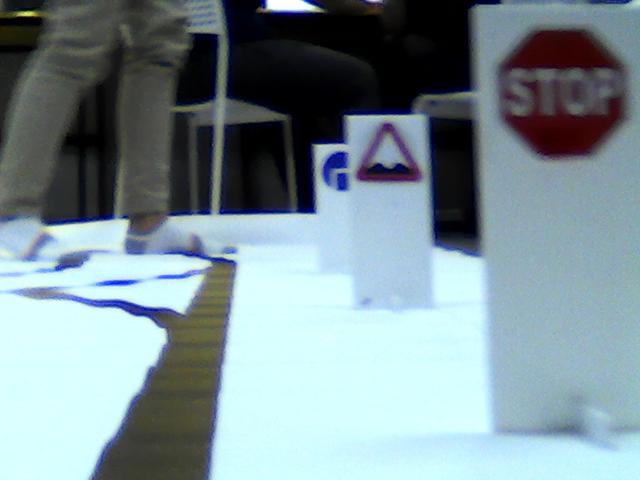Nerov: (358, 121, 425, 185)
Stop: (497, 19, 627, 162)
